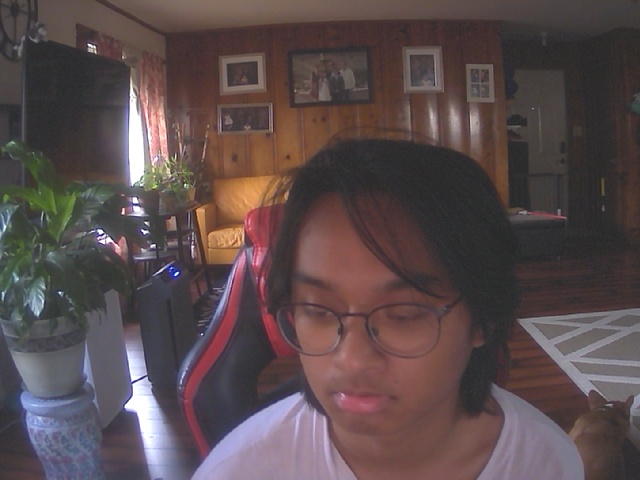sad: (263, 149, 503, 444)
